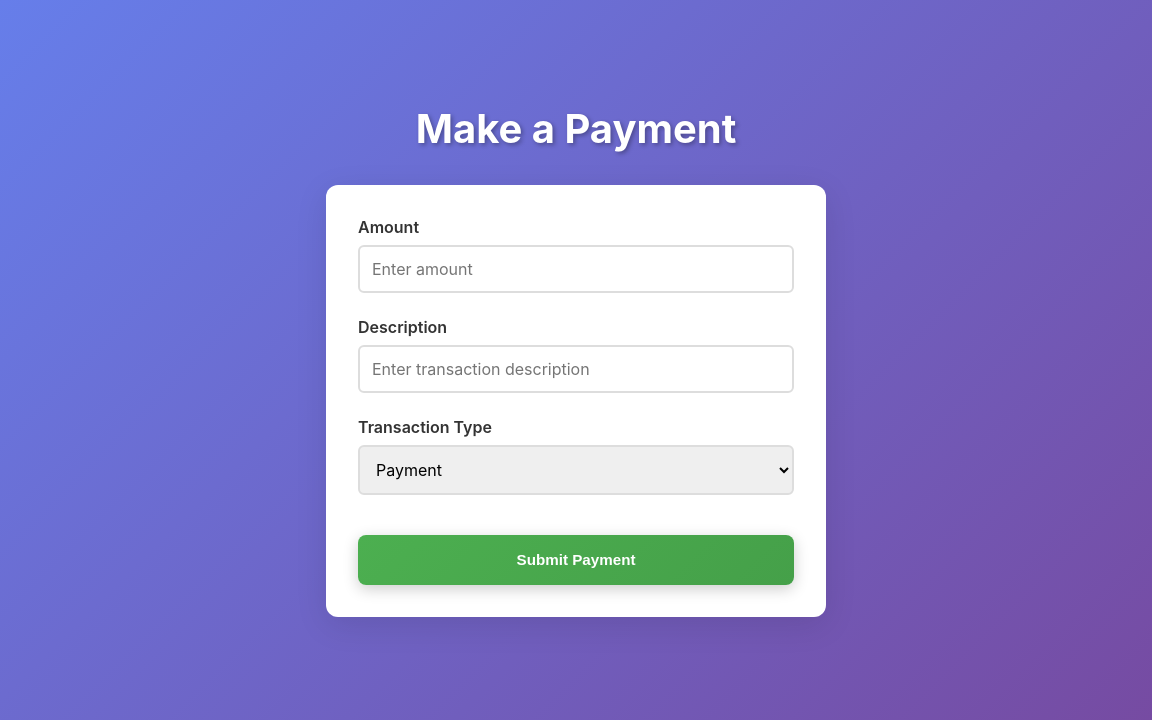
it: Pay Component › handles API error gracefully
In the number field labelled "Amount": coordinates (576, 268) [358,244,794,292], type "100"
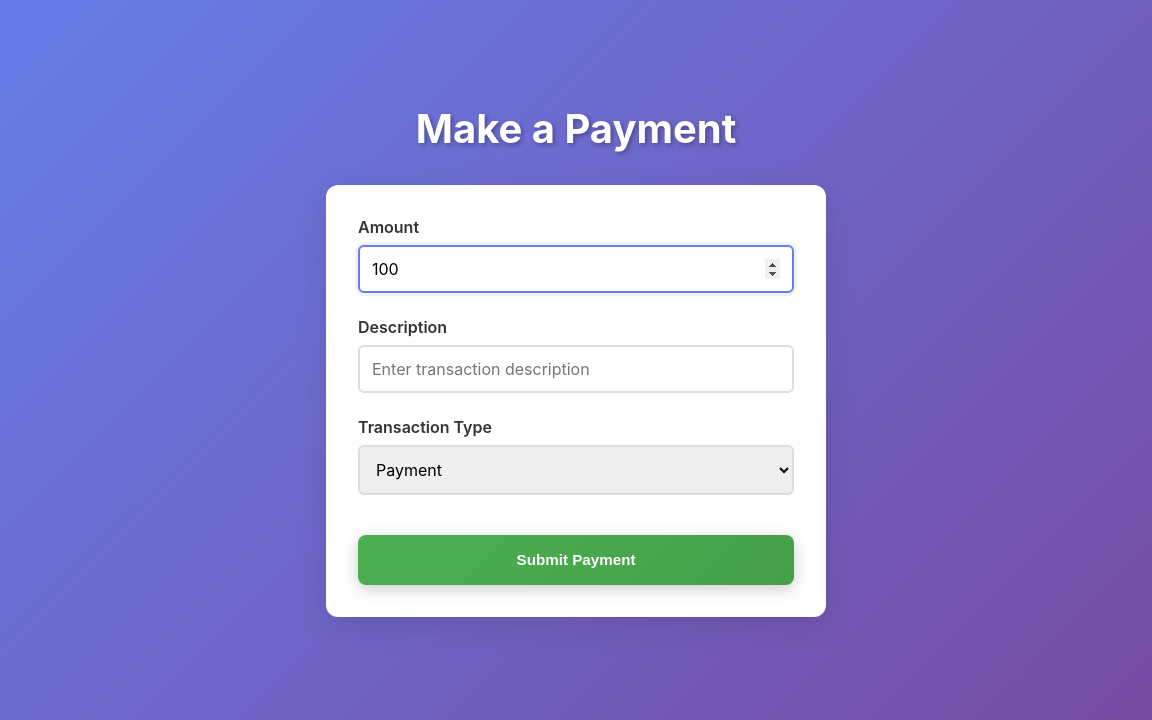
Click the button "Submit Payment": coordinates (576, 560) [358,534,794,584]
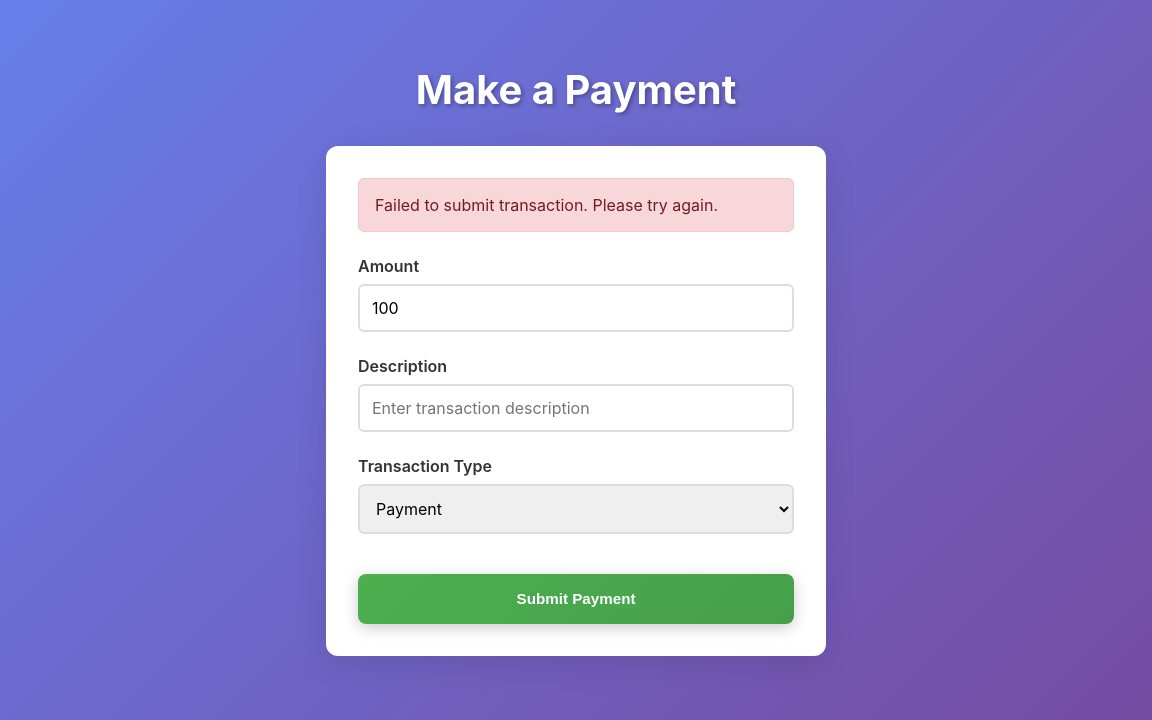
Result: the text "Failed to submit transaction. Please try again." is shown at [358,178,794,232]
